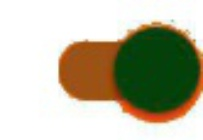Switch: (1, 1, 202, 139)
